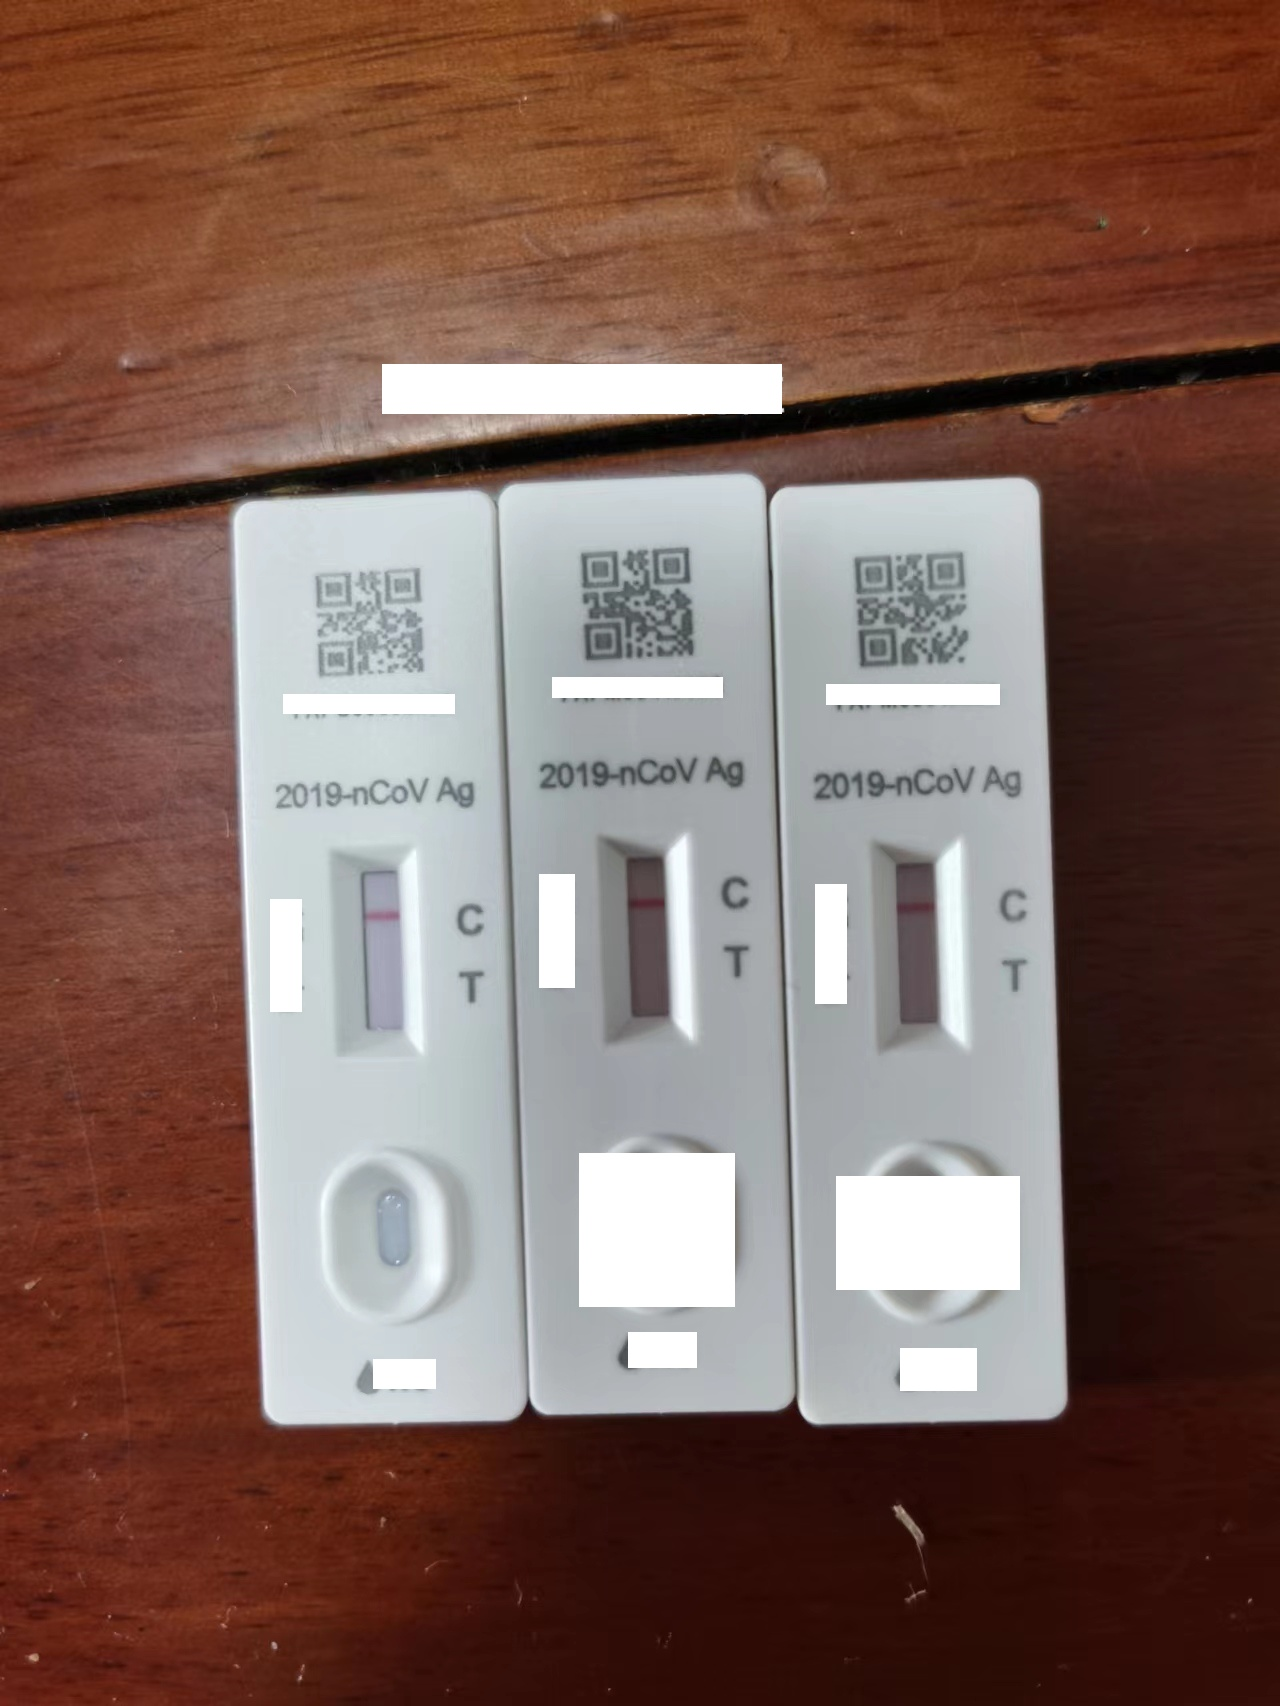negative: (600, 832, 692, 1050), (335, 842, 426, 1055), (874, 838, 959, 1055)
